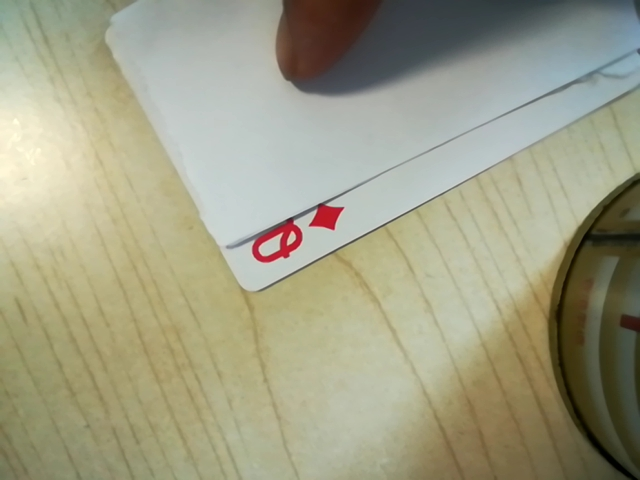fk q: (237, 199, 347, 270)
